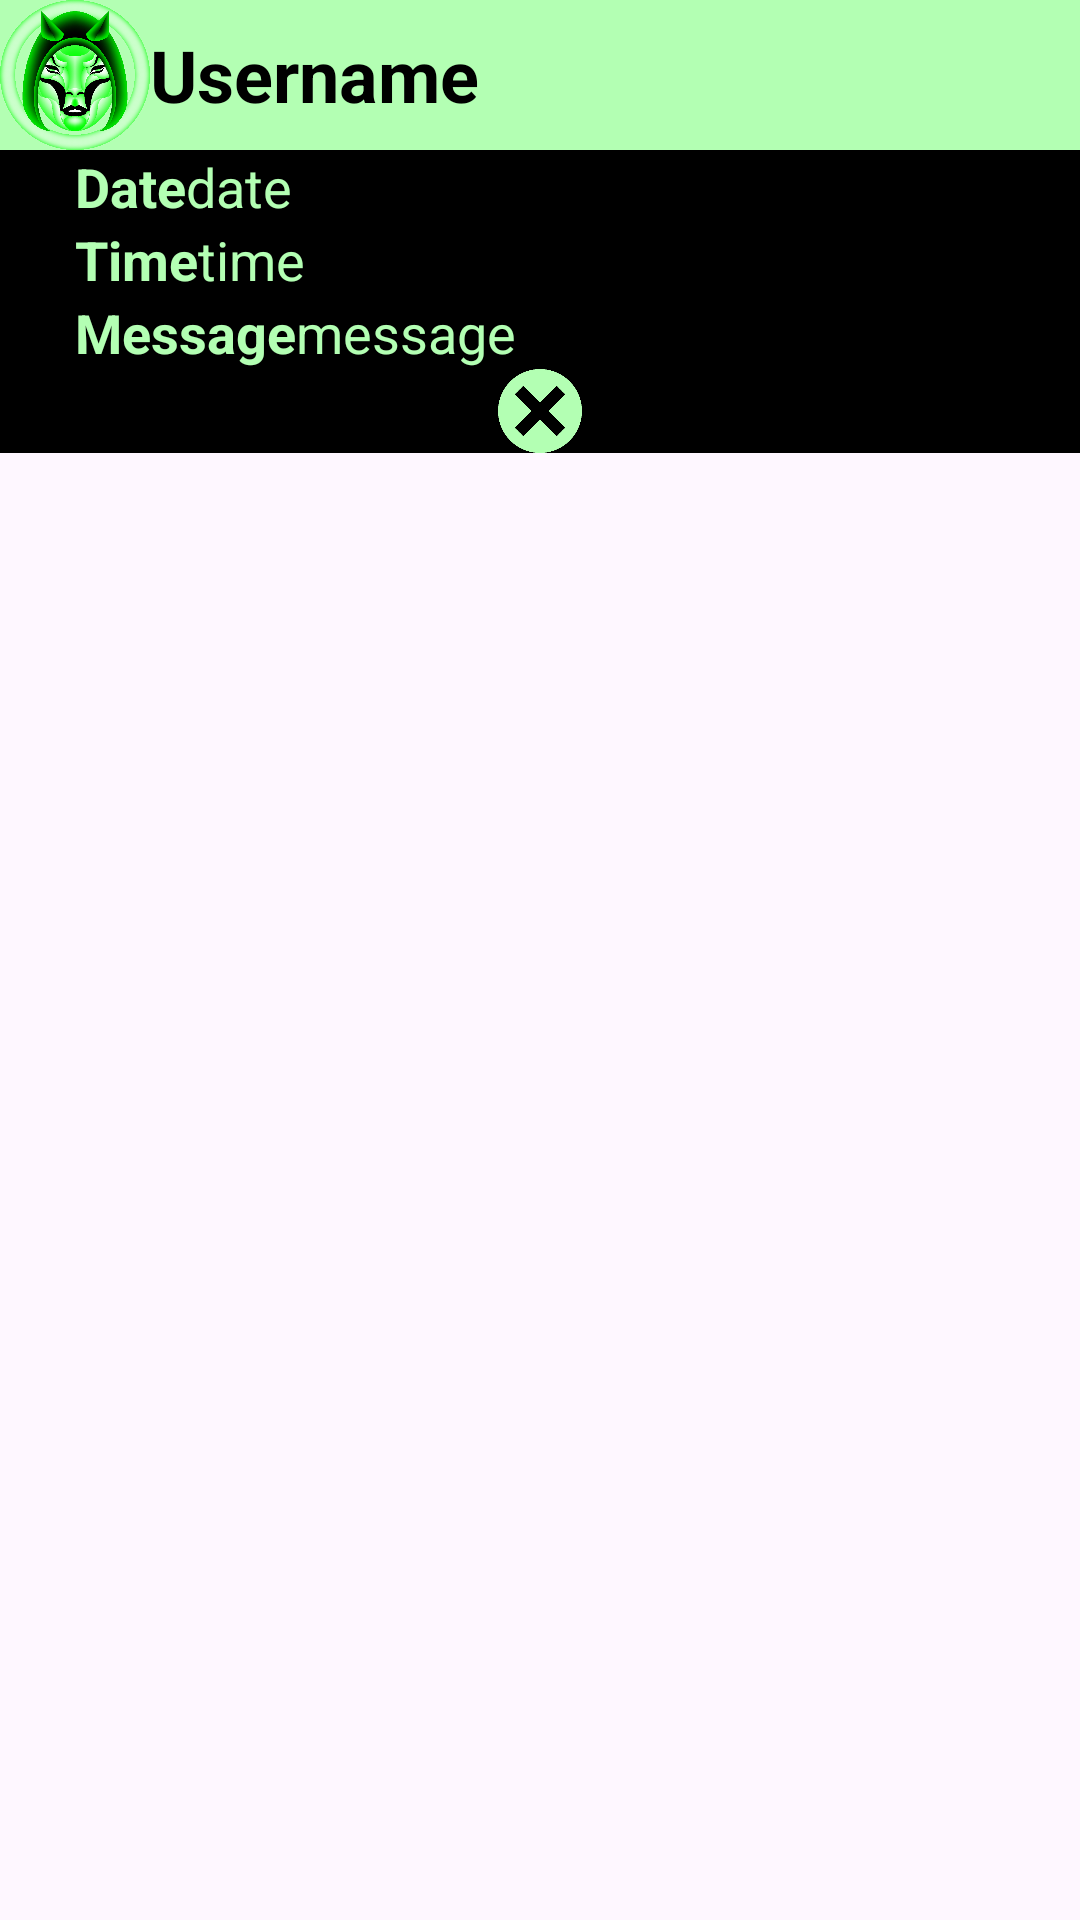

Point at icon controls on the screen. Image size 1080 x 1920, points as point (x, y).
exit: point (540, 411)
